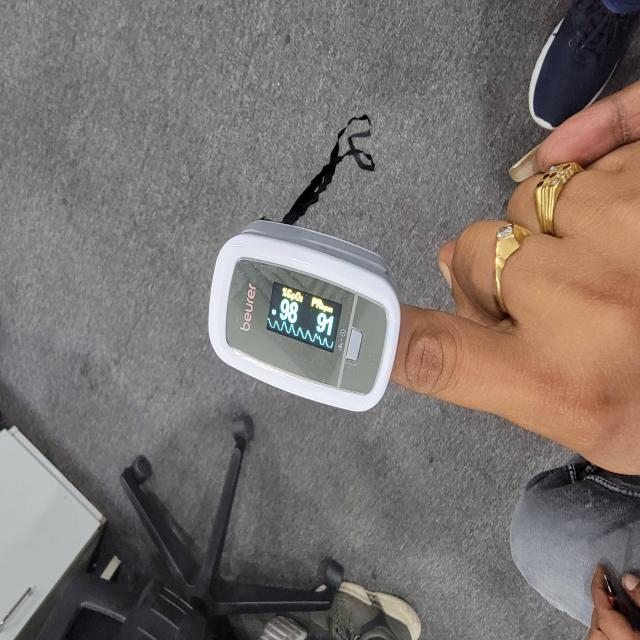spo2: (208, 222, 401, 415)
